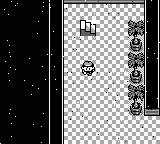main: (81, 62, 95, 75)
no-caminable: (2, 0, 50, 143), (49, 0, 64, 144), (145, 0, 160, 116), (128, 21, 145, 115), (66, 0, 143, 3)
puerta: (80, 20, 96, 35)
